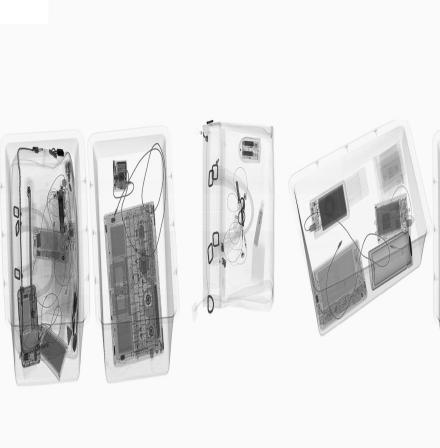Powerbank: (308, 177, 352, 243), (32, 322, 70, 386), (374, 191, 411, 245)
